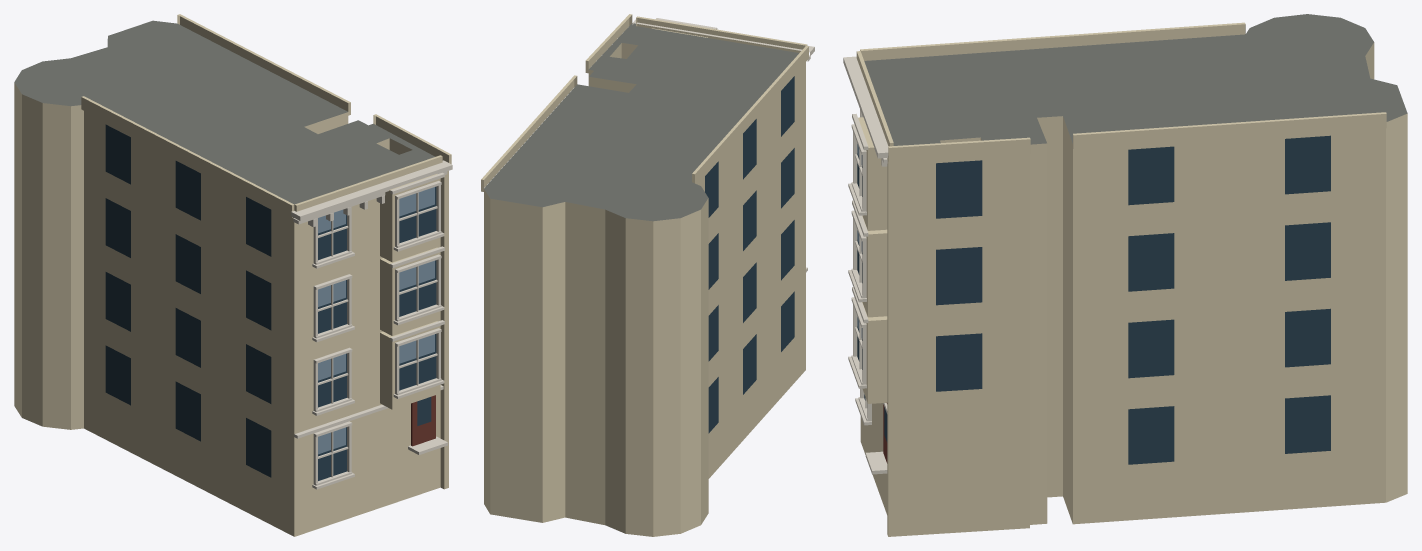
The picture shows the model from 3 angles, left to right: view 1: azimuth 30°, elevation 25°; view 2: azimuth 150°, elevation 25°; view 3: azimuth 270°, elevation 25°; orthographic projection. The views are drawn at different scales.
Parts seen in each view (by area): view 1: Footprint 0 / surface 2, Footprint 0 / surface 1, Inset glazing, Cornices and window frames, Facade bay volumes, Sky reflection panels, Storefronts and doors; view 2: Footprint 0 / surface 2, Footprint 0 / surface 1, Inset glazing, Facade bay volumes, Cornices and window frames; view 3: Footprint 0 / surface 2, Footprint 0 / surface 1, Inset glazing, Facade bay volumes, Cornices and window frames.
Boxes of the visible parts, x1=… form: Footprint 0 / surface 2: x1=14, y1=83, x2=448, y2=536; Footprint 0 / surface 1: x1=14, y1=20, x2=435, y2=204; Inset glazing: x1=105, y1=124, x2=436, y2=480; Cornices and window frames: x1=291, y1=160, x2=452, y2=489; Facade bay volumes: x1=81, y1=14, x2=451, y2=409; Sky reflection panels: x1=318, y1=187, x2=434, y2=454; Storefronts and doors: x1=411, y1=395, x2=435, y2=446; Footprint 0 / surface 2: x1=484, y1=43, x2=805, y2=536; Footprint 0 / surface 1: x1=484, y1=23, x2=799, y2=221; Inset glazing: x1=705, y1=76, x2=794, y2=433; Facade bay volumes: x1=481, y1=14, x2=808, y2=191; Cornices and window frames: x1=632, y1=18, x2=814, y2=272; Footprint 0 / surface 2: x1=860, y1=42, x2=1407, y2=536; Footprint 0 / surface 1: x1=864, y1=14, x2=1407, y2=145; Inset glazing: x1=857, y1=135, x2=1330, y2=464; Facade bay volumes: x1=856, y1=22, x2=1386, y2=403; Cornices and window frames: x1=843, y1=56, x2=888, y2=474.
Bounding box in the file's own units: 10.58 × 13.36 × 17.5.
